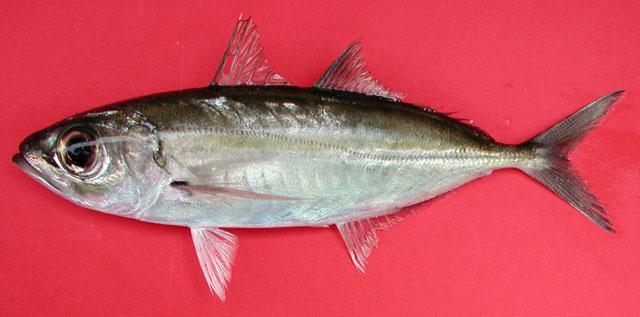Mulut: (8, 125, 64, 211)
Sirip Anal: (331, 167, 491, 281)
Sirip Dada: (162, 170, 320, 213)
Sirip Ekor: (515, 78, 635, 246)
Sirip Perut: (187, 220, 243, 304)
Sirip Punggung: (202, 8, 414, 104)
